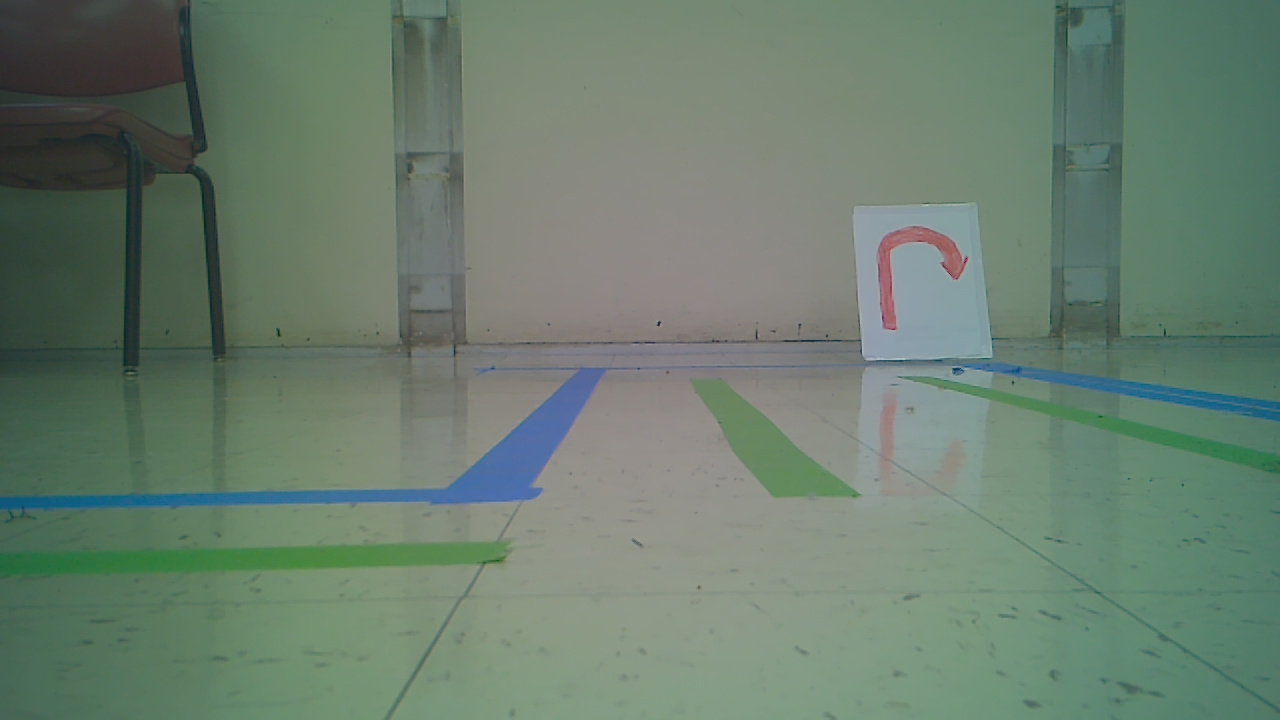greenline: (901, 378, 1278, 471), (681, 374, 858, 498), (5, 532, 500, 574)
uturn: (872, 224, 975, 335)
